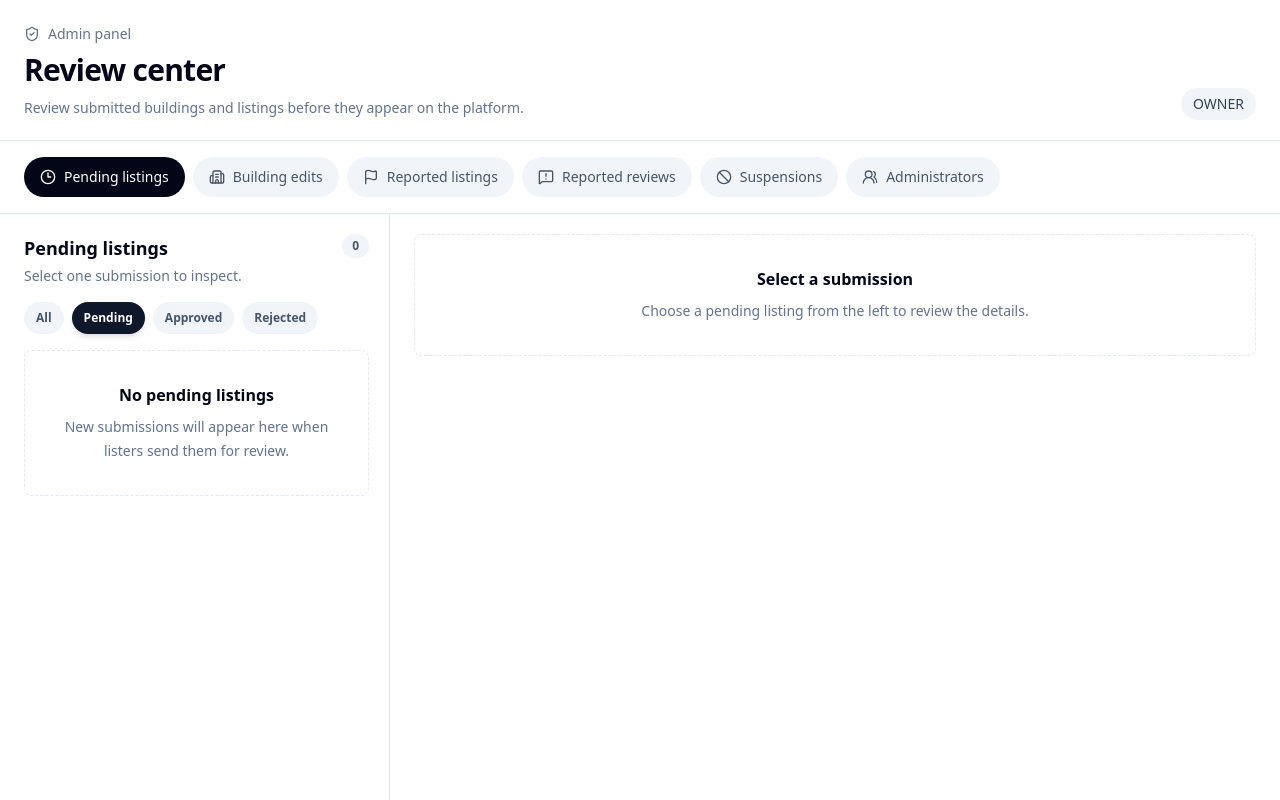
it: AdminPanelPage › switches workspace tabs for admin users
Expected: the heading "Review center" is shown, [24,49,225,90]
What coordinates should you click on to do the following:
click the button "Building edits"
I would click on:
 (266, 177)
Its box is [193,157,339,197].
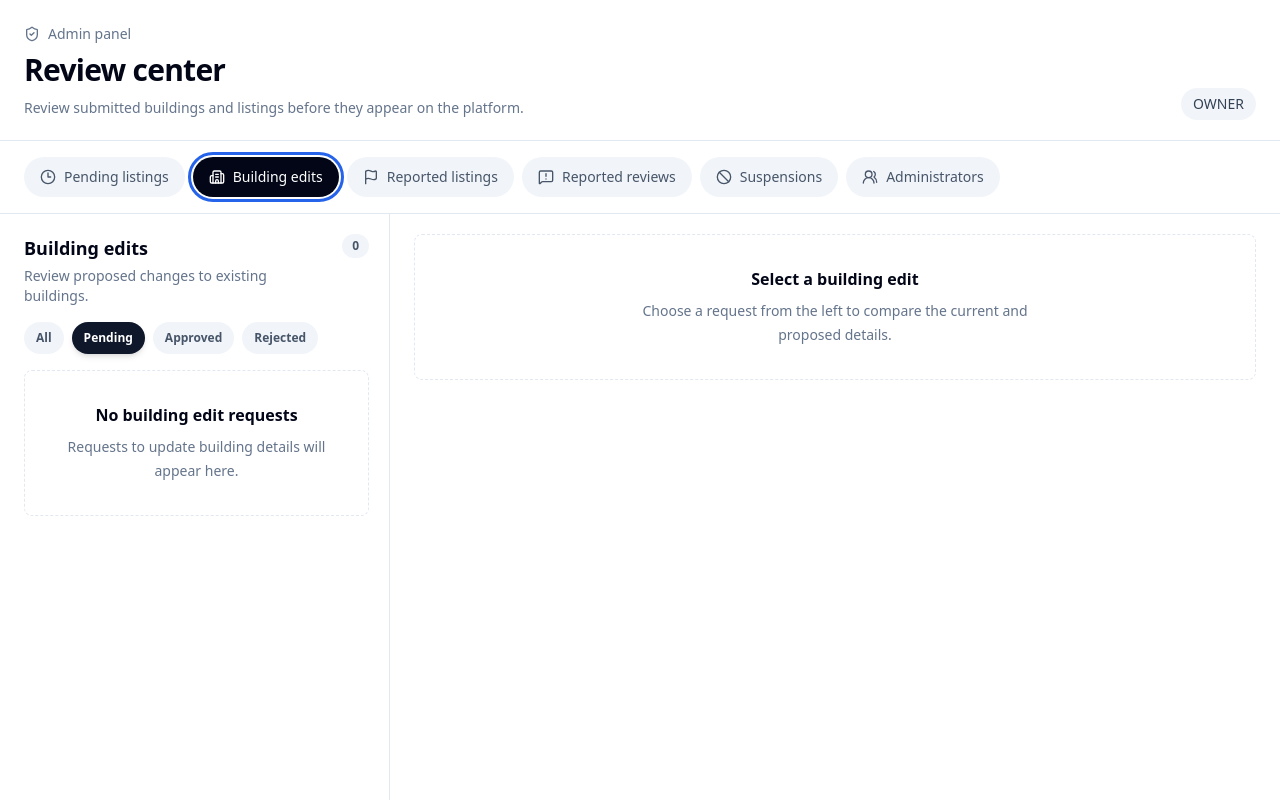
Result: the heading "Building edits" is shown at [24,236,148,260]
